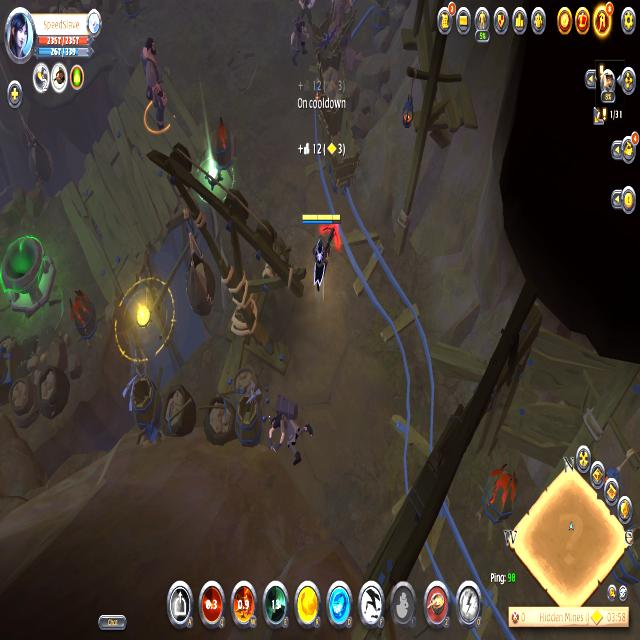ore: (137, 34, 173, 137), (286, 14, 311, 70)
red: (299, 206, 343, 298)
